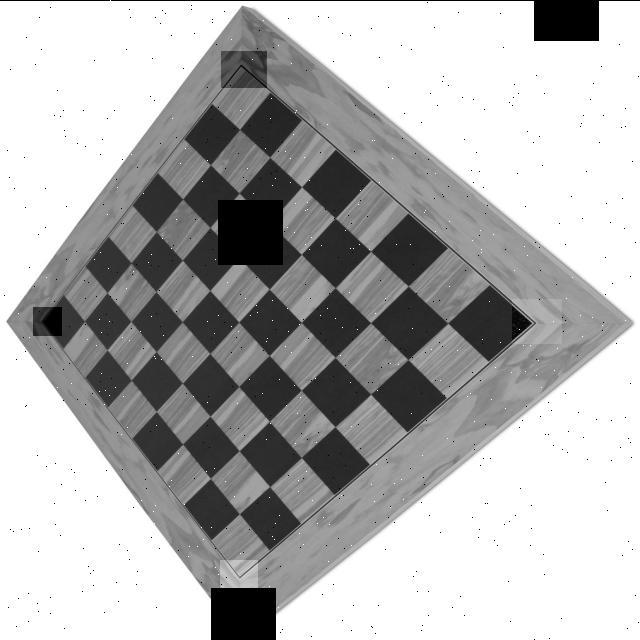chess-table-corners: (512, 298, 562, 343), (221, 50, 267, 87), (220, 559, 258, 592), (33, 306, 62, 335)
